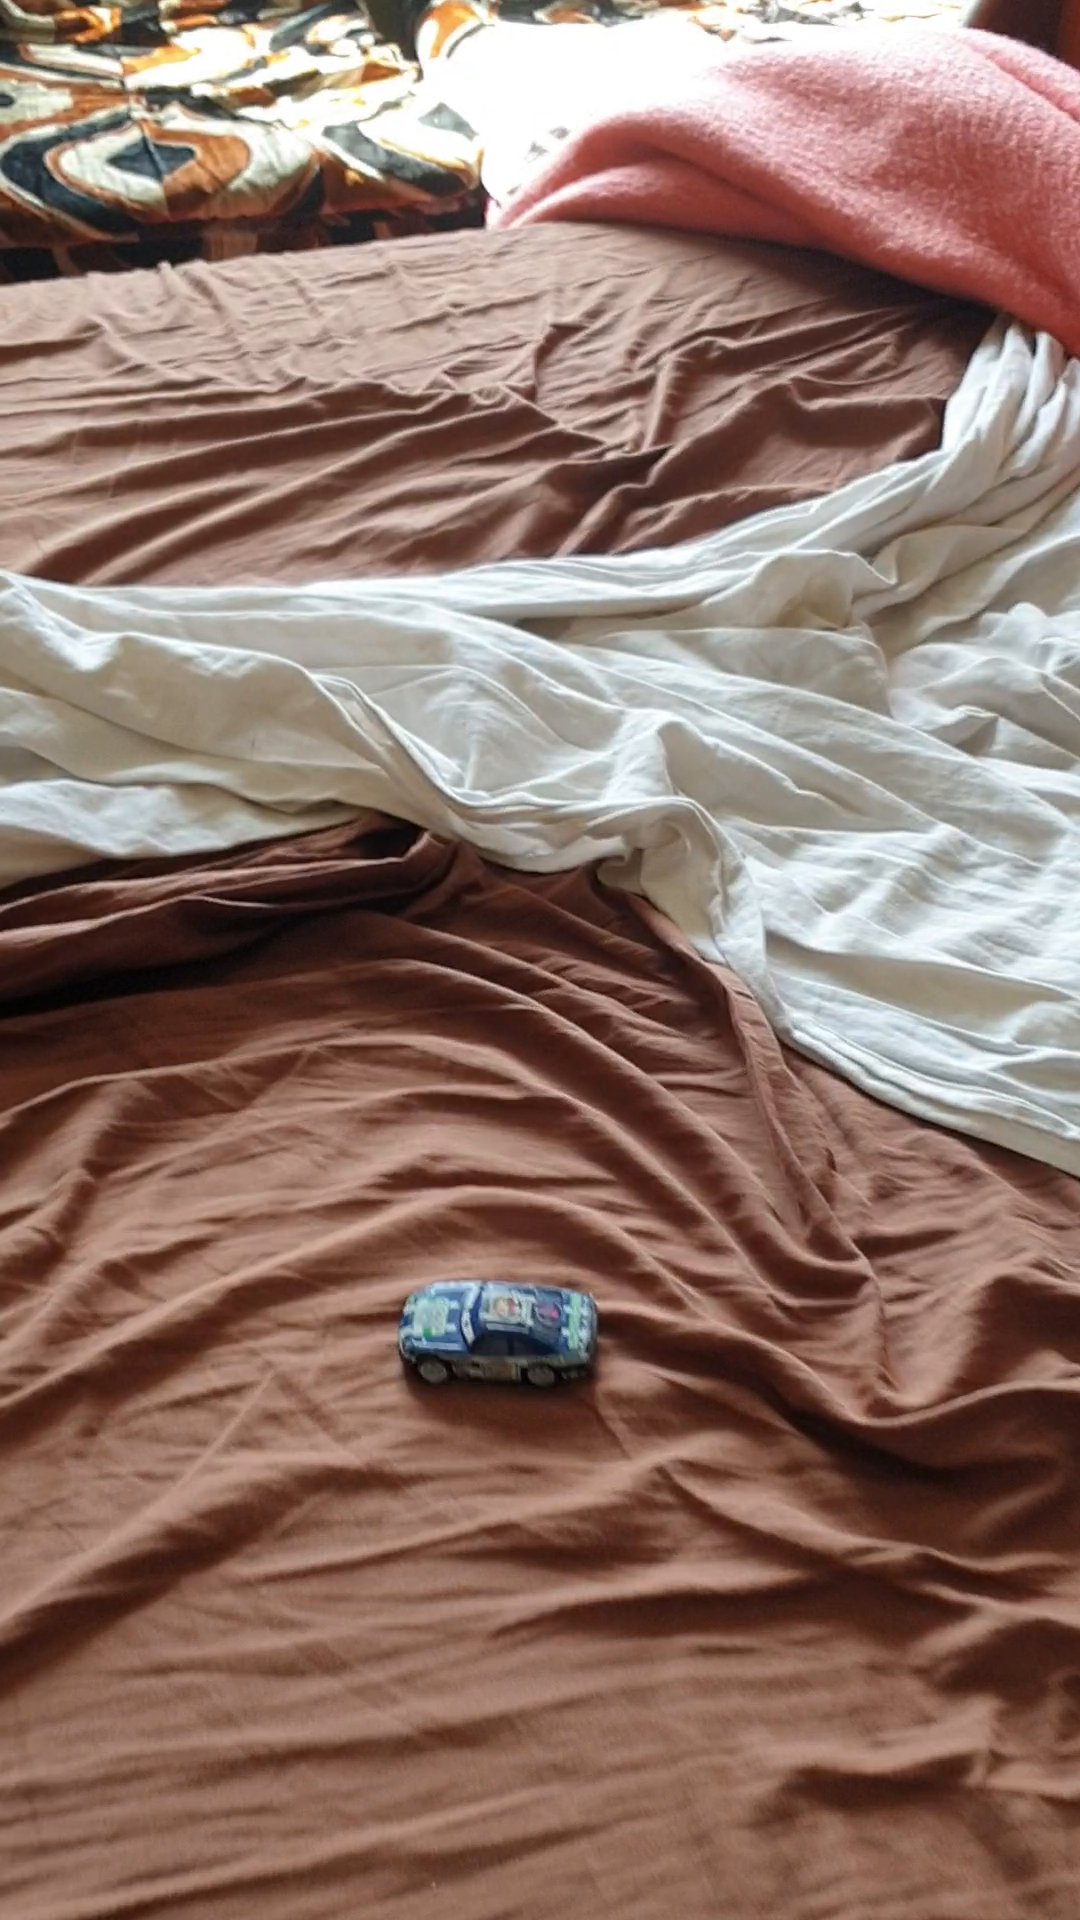cars: (396, 1280, 599, 1390)
